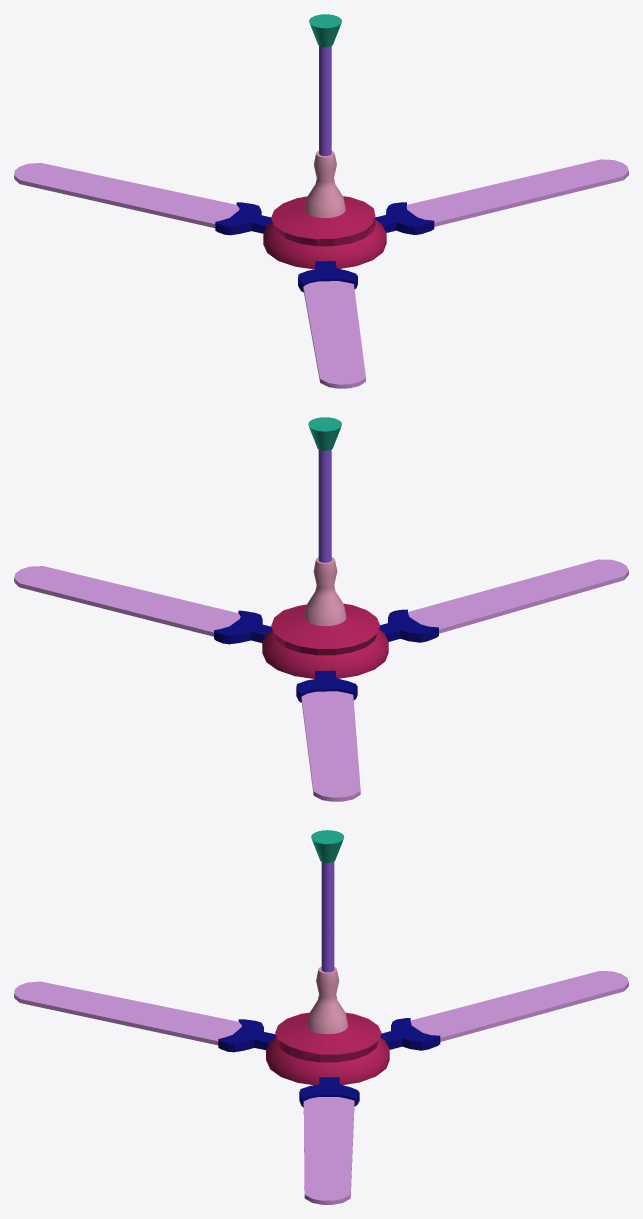
The model's file is ceilingFan.dae.
The picture shows the model from 3 angles, top to bottom: view 1: azimuth 30°, elevation 25°; view 2: azimuth 150°, elevation 25°; view 3: azimuth 270°, elevation 25°; orthographic projection. The views are drawn at different scales.
Visible parts, largest first — view 1: FanMotor, blade003, blade001, blade002, Cone001, Cylinder001, BladeHolder003, BladeHolder001, BladeHolder002, Cone002; view 2: FanMotor, blade001, blade002, blade003, Cone001, Cylinder001, BladeHolder002, BladeHolder001, BladeHolder003, Cone002; view 3: FanMotor, blade002, blade003, blade001, Cone001, Cylinder001, BladeHolder003, BladeHolder002, BladeHolder001, Cone002.
Part boxes in pixels (<box>): FanMotor: <box>263,196,386,269</box>; blade003: <box>14,163,239,227</box>; blade001: <box>406,159,628,226</box>; blade002: <box>303,281,365,388</box>; Cone001: <box>304,151,345,217</box>; Cylinder001: <box>319,46,331,155</box>; BladeHolder003: <box>215,202,272,235</box>; BladeHolder001: <box>375,202,434,234</box>; BladeHolder002: <box>298,261,357,292</box>; Cone002: <box>309,14,341,47</box>; FanMotor: <box>262,603,388,678</box>; blade001: <box>14,566,240,636</box>; blade002: <box>408,559,628,633</box>; blade003: <box>301,691,360,801</box>; Cone001: <box>304,557,346,626</box>; Cylinder001: <box>318,450,331,562</box>; BladeHolder002: <box>379,609,438,642</box>; BladeHolder001: <box>214,610,271,644</box>; BladeHolder003: <box>296,670,357,702</box>; Cone002: <box>308,417,341,450</box>; FanMotor: <box>266,1012,389,1085</box>; blade002: <box>14,981,241,1045</box>; blade003: <box>410,971,628,1041</box>; blade001: <box>303,1097,354,1204</box>; Cone001: <box>307,966,348,1034</box>; Cylinder001: <box>321,862,334,972</box>; BladeHolder003: <box>380,1018,440,1050</box>; BladeHolder002: <box>218,1019,275,1052</box>; BladeHolder001: <box>299,1077,359,1107</box>; Cone002: <box>311,830,344,863</box>.
Bounding box in the file's own units: 95.5 × 108 × 47.46.
